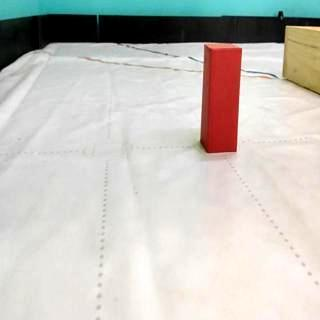redbox: (200, 42, 242, 154)
